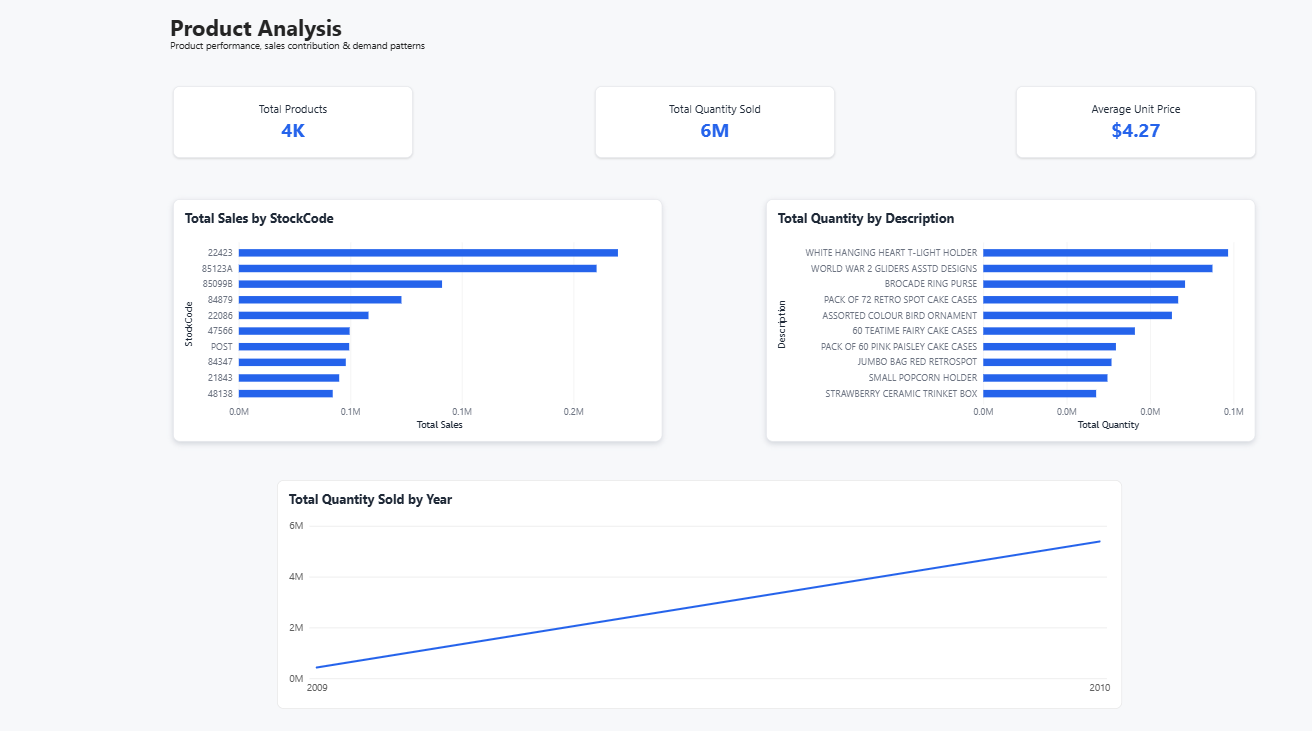

This screenshot's page, from the dashboard's own definition file:
{"tool":"powerbi","page":{"name":"Product Analysis","canvas":[1920,1080],"ordinal":2},"visuals":[{"type":"cardVisual","fields":{"Data":["online_retail_cleaned.Total Products"]},"box":[254.2,134.7,350,105],"z":0},{"type":"cardVisual","fields":{"Data":["online_retail_cleaned.Total Quantity Sold"]},"box":[869.2,134.7,350,105],"z":1000},{"type":"cardVisual","fields":{"Data":["online_retail_cleaned.Average Unit Price"]},"box":[1484.3,134.7,350,105],"z":2000},{"type":"clusteredBarChart","fields":{"Category":["online_retail_cleaned.StockCode"],"Y":["online_retail_cleaned.Total Sales"]},"box":[254.2,299.6,714,354],"z":3000},{"type":"clusteredBarChart","fields":{"Category":["online_retail_cleaned.Description"],"Y":["online_retail_cleaned.Total Quantity"]},"box":[1119.6,299.6,714.1,354],"z":4000},{"type":"lineChart","fields":{"Category":["online_retail_cleaned.InvoiceDate.Variation.Date Hierarchy.Year","online_retail_cleaned.InvoiceDate.Variation.Date Hierarchy.Month"],"Y":["online_retail_cleaned.Total Quantity Sold"]},"box":[405.5,709.6,1233.1,334.4],"z":5000},{"type":"textbox","box":[249.6,25.7,354,57.5],"z":6000},{"type":"textbox","box":[249.6,65.1,441.8,34.8],"z":7000}]}

Visuals, with their boxes in screenshot pixels (x1, y1, x2, y2), scaled from the page's 1920x1080 canvas onto the 1312x731 screenshot:
cardVisual - online_retail_cleaned.Total Products: (174, 91, 413, 162)
cardVisual - online_retail_cleaned.Total Quantity Sold: (594, 91, 833, 162)
cardVisual - online_retail_cleaned.Average Unit Price: (1014, 91, 1253, 162)
clusteredBarChart - online_retail_cleaned.StockCode x online_retail_cleaned.Total Sales: (174, 203, 662, 442)
clusteredBarChart - online_retail_cleaned.Description x online_retail_cleaned.Total Quantity: (765, 203, 1253, 442)
lineChart - online_retail_cleaned.InvoiceDate.Variation.Date Hierarchy.Year x online_retail_cleaned.InvoiceDate.Variation.Date Hierarchy.Month: (277, 480, 1120, 707)
textbox: (171, 17, 412, 56)
textbox: (171, 44, 472, 68)
